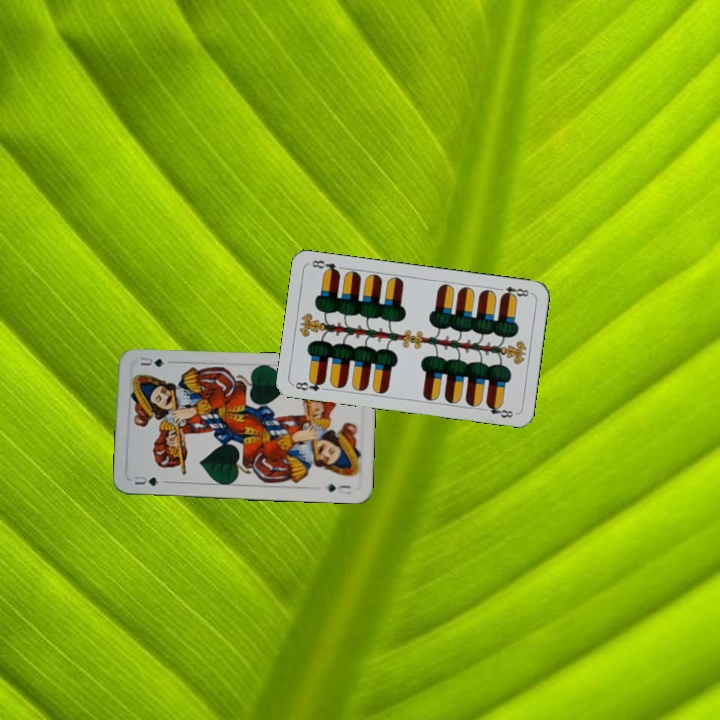E8: (493, 282, 534, 301), (291, 375, 327, 394)
GU: (130, 472, 162, 488)
